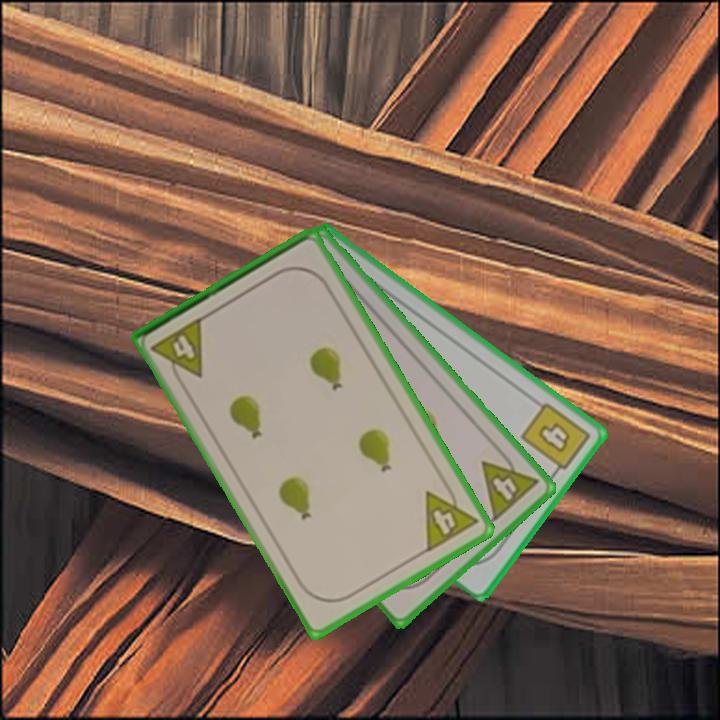4b: (517, 398, 594, 480)
4p: (478, 444, 542, 524), (421, 477, 481, 555), (148, 313, 207, 389)
